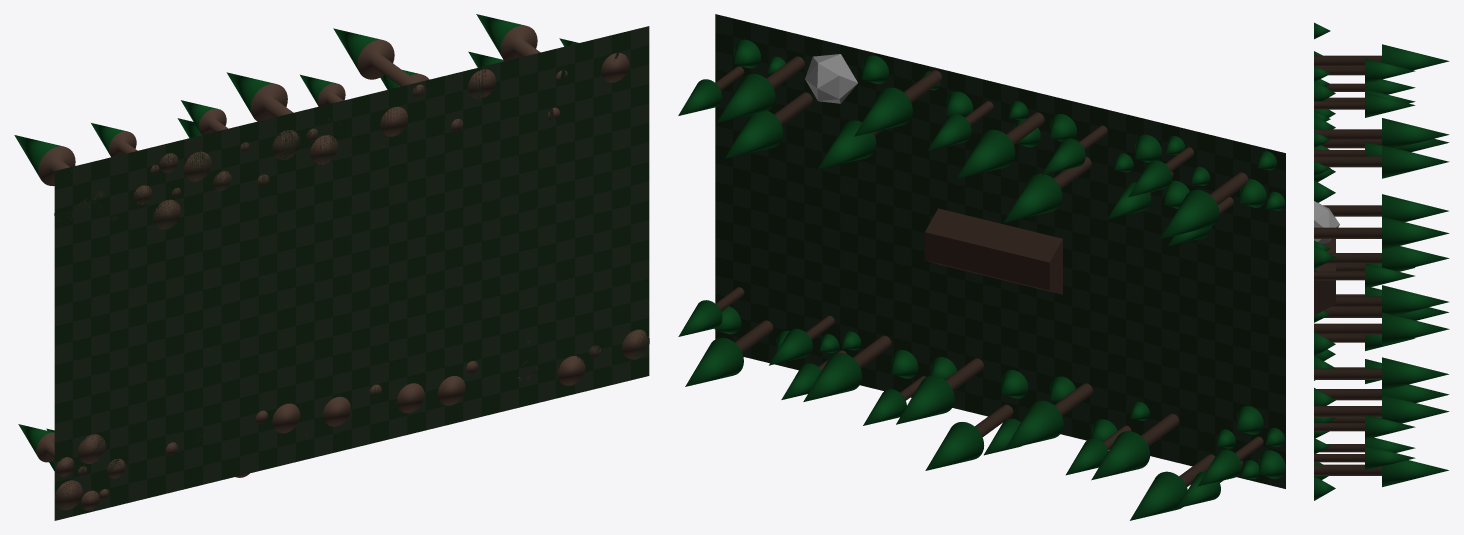
File: forest03.dae
3 renders of one model, left to right at view 1: azimuth 30°, elevation 25°; view 2: azimuth 150°, elevation 25°; view 3: azimuth 270°, elevation 25°, orthographic. The views are drawn at different scales.
Parts seen in each view (by area): view 1: Plane.029, Cone.1982, Cone.1974, Cone.1983, Cone.1961, Cone.1953, Cone.1950, Cone.1965, Cone.1980; view 2: Plane.029, Cylinder.002, Cone.1975, Cone.1972, Cone.1974, Cone.1982, Cone.1983, Cone.2001, Cone.1989, Cone.1993, Cone.1942, Cone.1961 (+17 smaller); view 3: Cone.1983, Cone.1972, Cone.1975, Cone.1982, Cone.1989, Cone.1974, Cone.1993, Cone.2001, Cone.1947, Cone.1961, Cone.1951, Cone.1942 (+25 smaller).
Part boxes in pixels (box(x1,y1,x2,y2)): Plane.029: box(54, 26, 649, 520); Cone.1982: box(333, 28, 424, 97); Cone.1974: box(226, 72, 317, 141); Cone.1983: box(476, 14, 567, 83); Cone.1961: box(14, 135, 105, 202); Cone.1953: box(181, 100, 249, 151); Cone.1950: box(91, 123, 159, 174); Cone.1965: box(18, 424, 86, 475); Cone.1980: box(300, 74, 345, 106); Plane.029: box(715, 14, 1285, 488); Cylinder.002: box(924, 208, 1062, 294); Cone.1975: box(896, 358, 983, 424); Cone.1972: box(1005, 383, 1092, 449); Cone.1974: box(956, 112, 1044, 178); Cone.1982: box(854, 70, 941, 136); Cone.1983: box(717, 56, 804, 122); Cone.2001: box(1091, 413, 1179, 480); Cone.1989: box(803, 335, 891, 401); Cone.1993: box(685, 320, 773, 386); Cone.1942: box(925, 404, 1013, 470); Cone.1961: box(1160, 172, 1248, 238); Cone.1983: box(1314, 216, 1449, 250); Cone.1972: box(1314, 312, 1449, 345); Cone.1975: box(1314, 357, 1448, 390); Cone.1982: box(1314, 145, 1449, 178); Cone.1989: box(1314, 394, 1449, 423); Cone.1974: box(1314, 118, 1449, 148); Cone.1993: box(1314, 460, 1448, 487); Cone.2001: box(1330, 285, 1448, 315); Cone.1947: box(1323, 194, 1448, 221); Cone.1961: box(1314, 44, 1449, 70); Cone.1951: box(1325, 246, 1449, 271); Cone.1942: box(1317, 384, 1449, 402).
Size of the model in its own units: 64.07 by 16 by 37.96.
